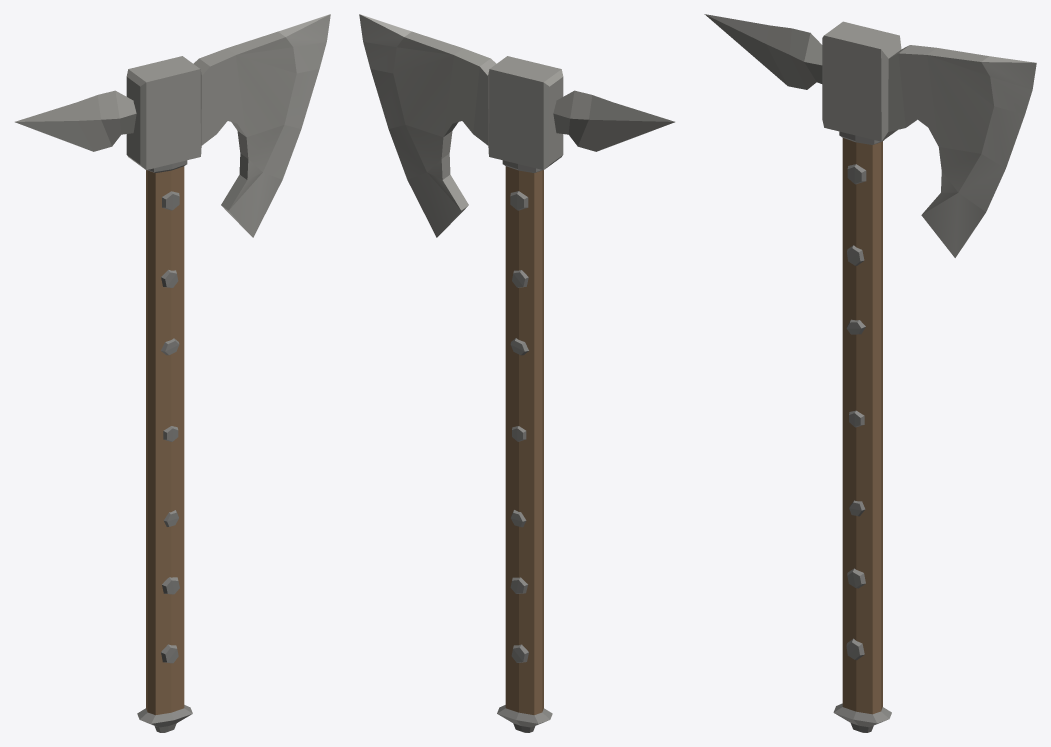
Rendered from SM_pwe_medieval_axe_01.fbx.
The picture shows the model from 3 angles, left to right: view 1: azimuth 30°, elevation 25°; view 2: azimuth 150°, elevation 25°; view 3: azimuth 330°, elevation 25°; orthographic projection. The views are drawn at different scales.
Parts seen in each view (by area): view 1: SM_pwe_medieval_axe_01; view 2: SM_pwe_medieval_axe_01; view 3: SM_pwe_medieval_axe_01.
Part boxes in pixels (x1,y1,x2,y2): SM_pwe_medieval_axe_01: (15,14,330,732); SM_pwe_medieval_axe_01: (359,14,674,732); SM_pwe_medieval_axe_01: (704,14,1036,732).
Size of the model in its own units: 43.32 by 88.68 by 4.3.
